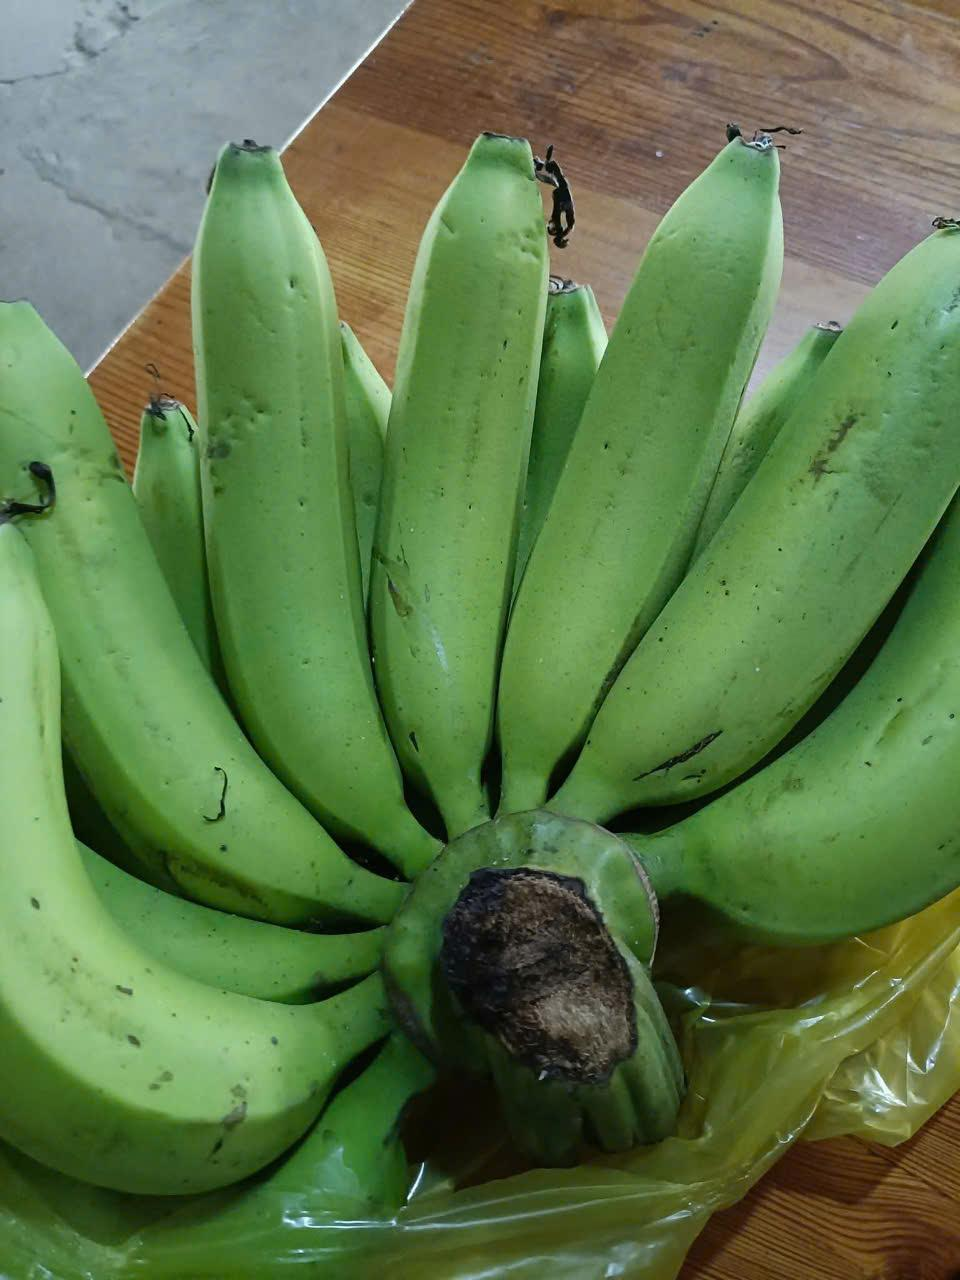banana: (403, 69, 960, 951), (0, 143, 445, 1240)
